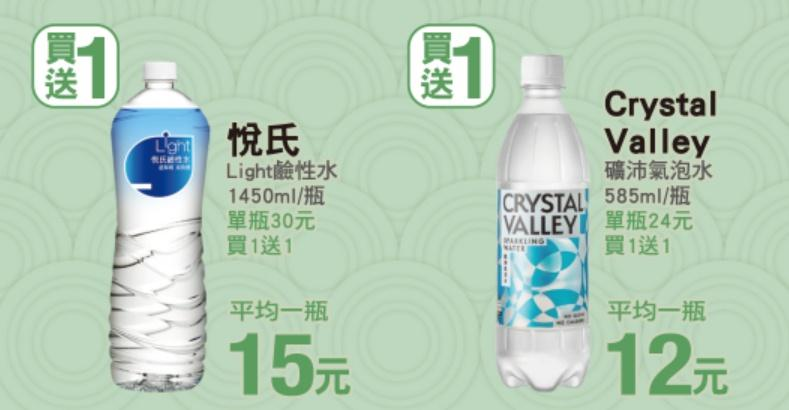bottle: (493, 0, 595, 191), (103, 0, 215, 172)
